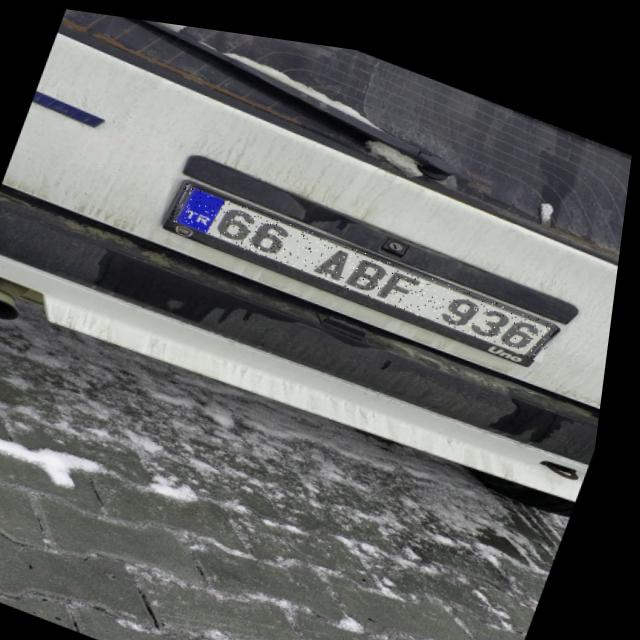license_plate: (167, 176, 570, 346)
